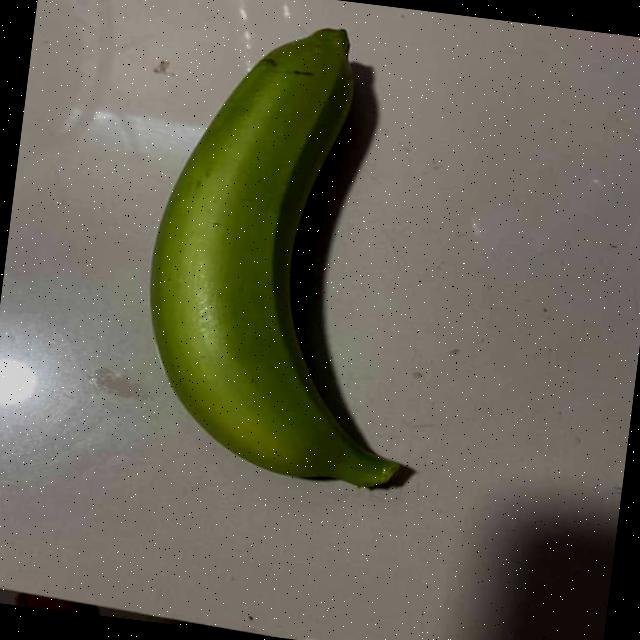Raw: (115, 0, 502, 518)
